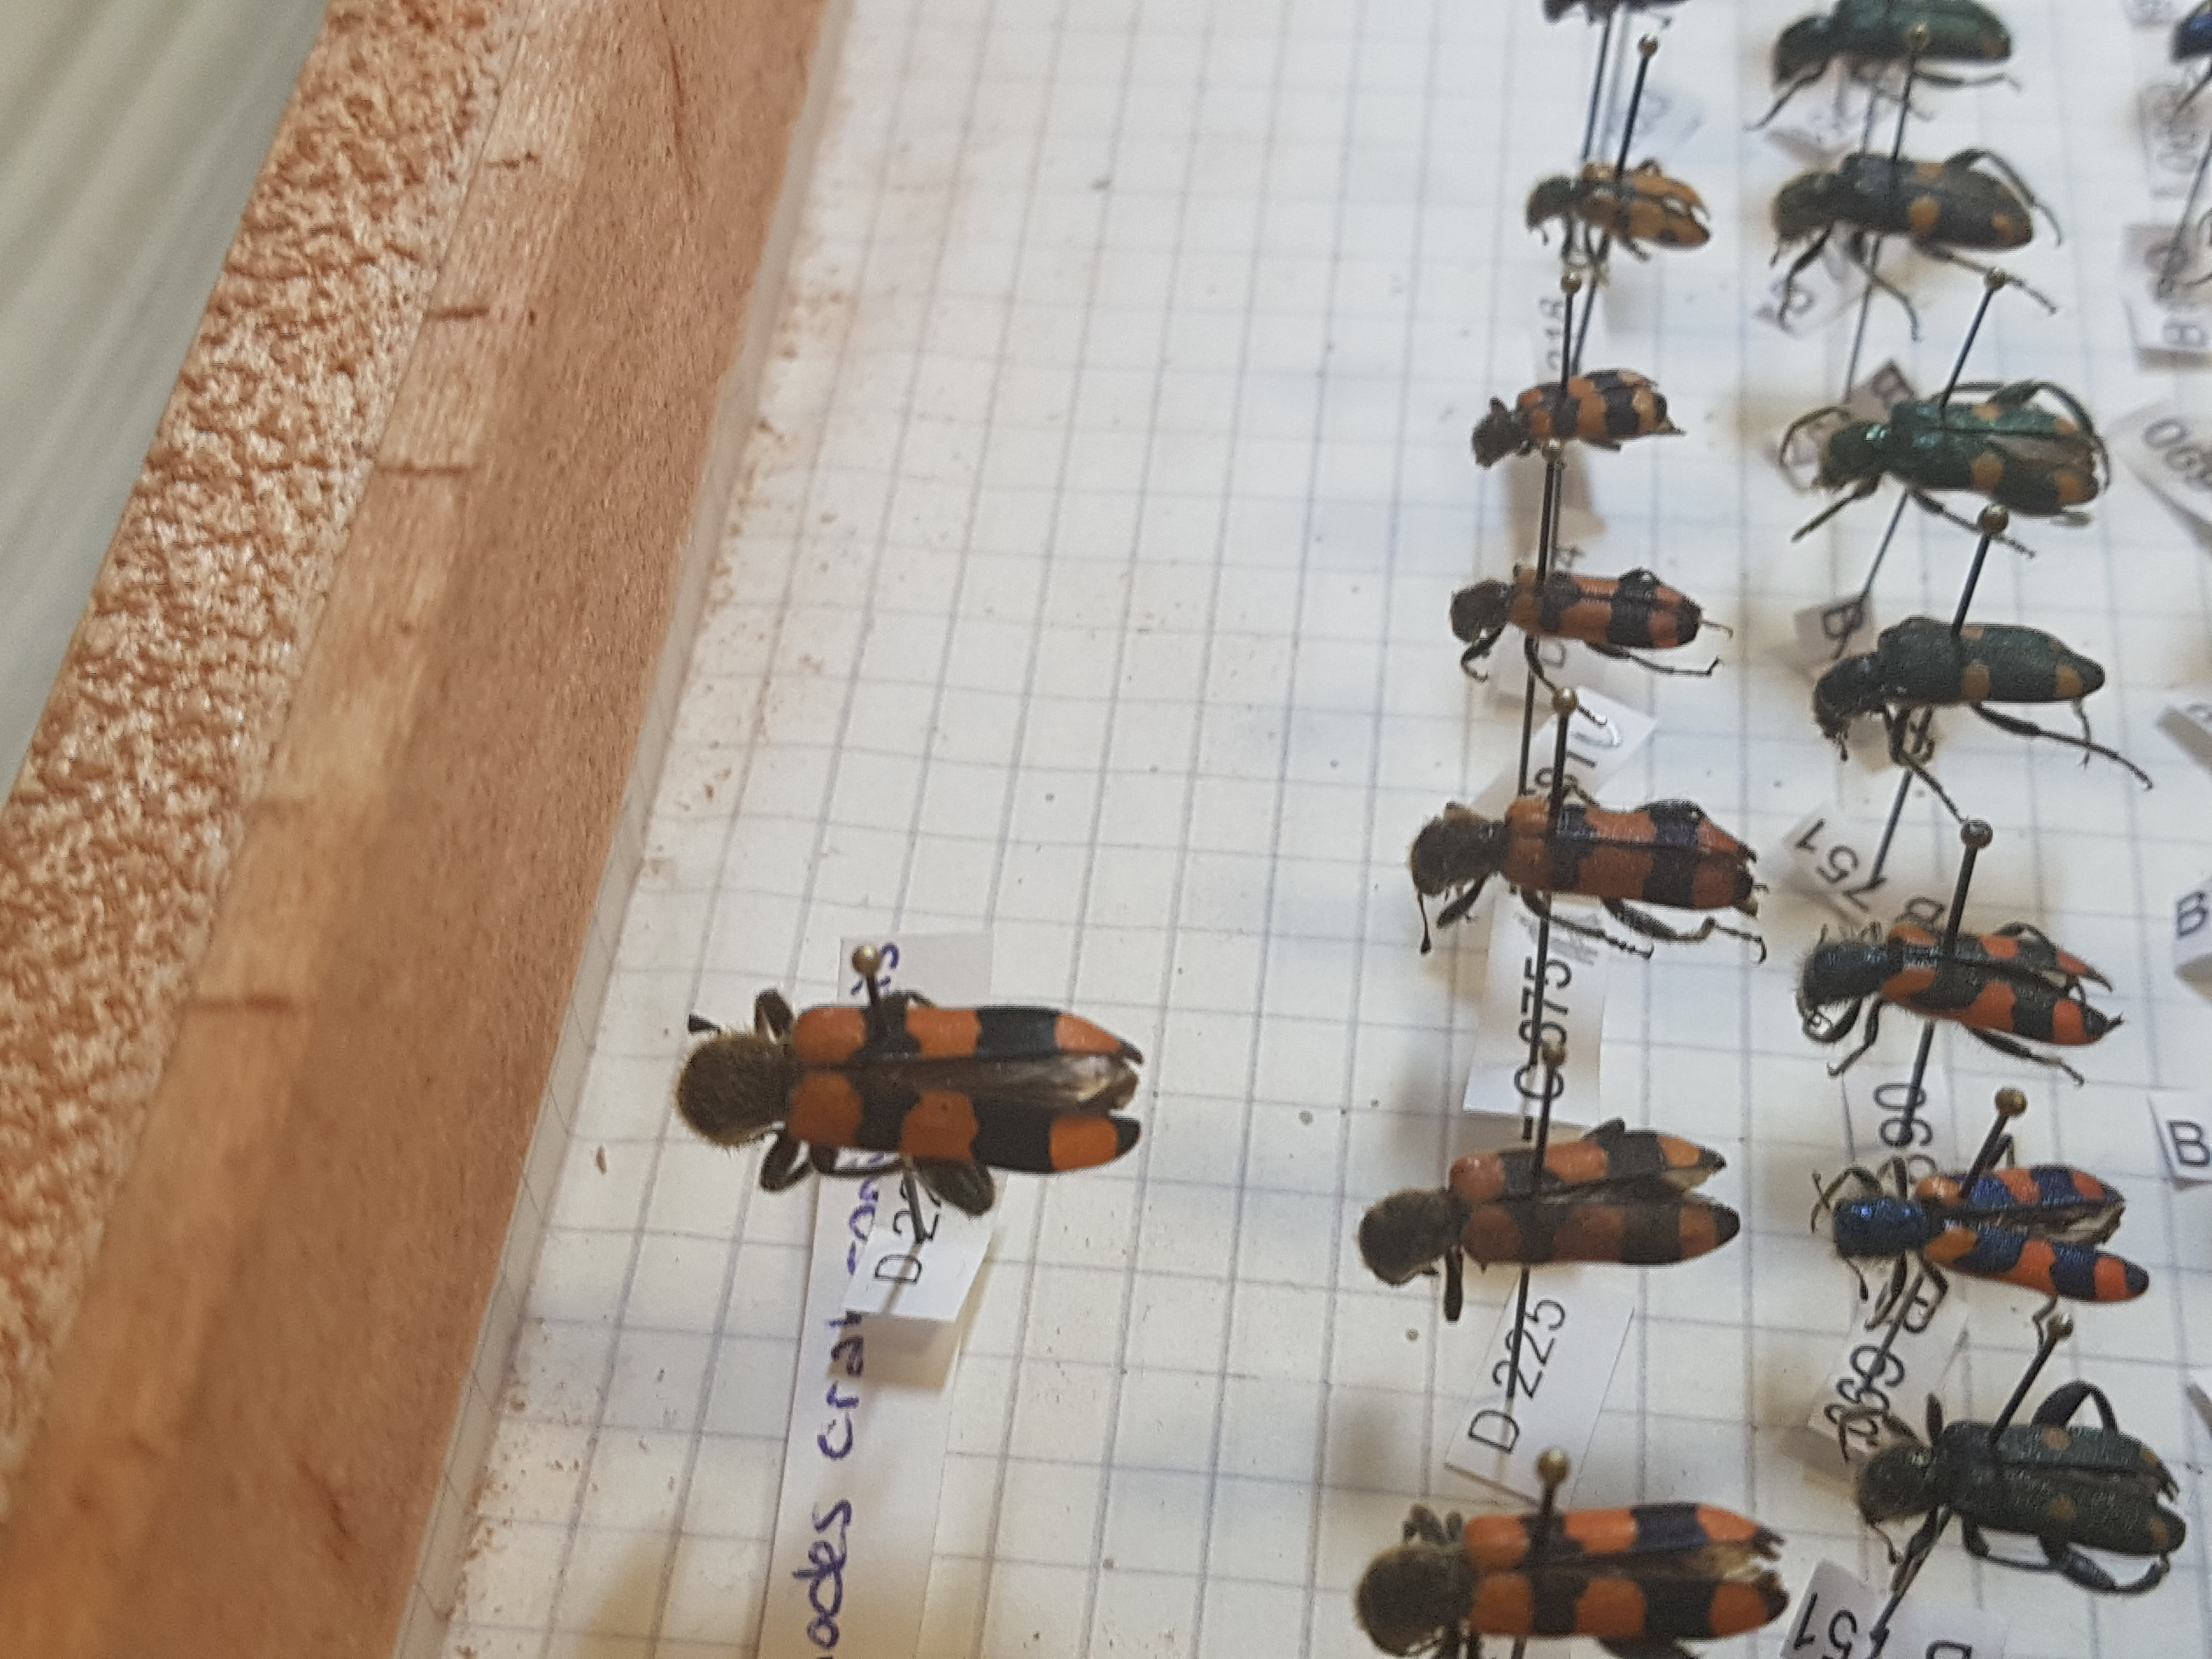trichodes_crabroniformis: (667, 979, 1157, 1187), (1284, 1112, 1752, 1309), (1355, 1121, 1754, 1328), (1339, 1499, 1813, 1659), (1395, 775, 1780, 972), (1808, 1121, 2163, 1319), (1811, 894, 2132, 1077), (1815, 366, 2116, 558), (1404, 532, 1740, 687), (1477, 354, 1693, 481)
